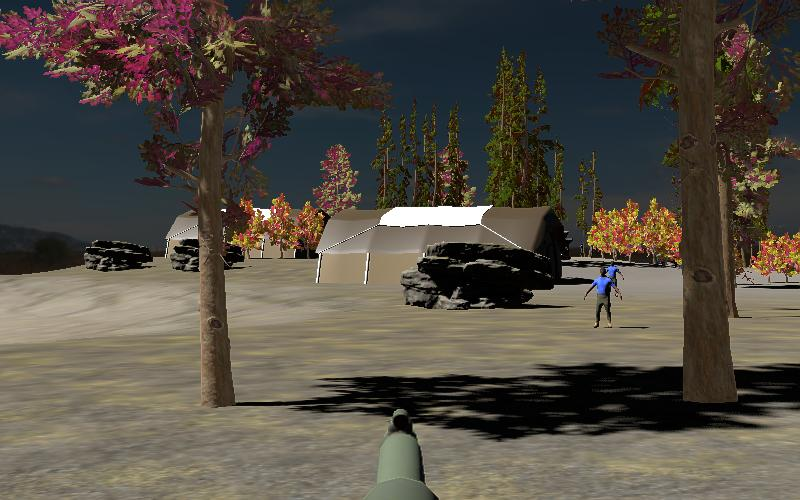Human: (584, 265, 620, 330), (606, 257, 625, 304)
